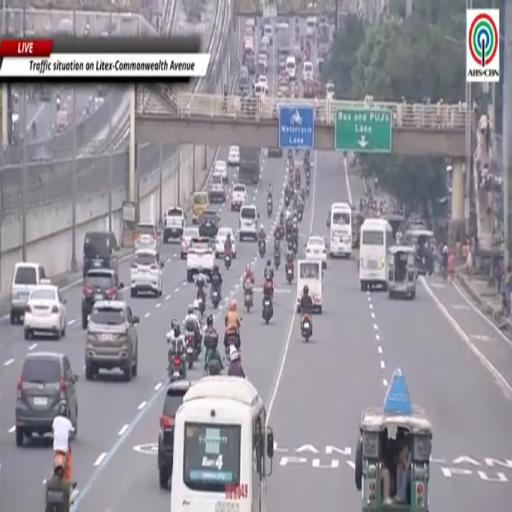bus: (171, 376, 273, 511), (359, 218, 394, 291), (329, 202, 352, 258)
car: (15, 351, 78, 446), (85, 300, 139, 380), (158, 380, 191, 488), (81, 269, 124, 329), (24, 280, 66, 339), (11, 262, 46, 324), (83, 232, 119, 277), (131, 250, 163, 297), (187, 237, 215, 282), (164, 207, 185, 243), (239, 205, 259, 242), (306, 235, 327, 268), (135, 222, 159, 250), (216, 228, 236, 259), (181, 227, 199, 259), (199, 210, 218, 238), (209, 173, 226, 204), (231, 184, 247, 211), (215, 160, 227, 182), (302, 61, 314, 82), (228, 146, 239, 166), (256, 75, 268, 93), (239, 75, 250, 94), (263, 24, 273, 44), (260, 37, 270, 55), (258, 53, 267, 72), (293, 45, 302, 62), (268, 148, 282, 157), (245, 19, 255, 31), (279, 54, 286, 71)
jeepney: (355, 370, 432, 511), (388, 246, 416, 299), (405, 230, 434, 275), (352, 212, 365, 248), (385, 214, 405, 236)
motorcycle: (43, 479, 61, 509), (186, 332, 196, 369), (225, 333, 239, 359), (169, 356, 182, 380), (301, 313, 312, 341), (262, 298, 272, 324), (206, 360, 221, 376), (197, 288, 205, 315), (245, 288, 253, 312), (212, 288, 220, 308), (286, 262, 293, 283), (224, 252, 232, 270), (290, 238, 297, 255), (259, 239, 265, 258), (274, 251, 280, 269), (267, 198, 272, 217), (305, 182, 310, 198), (295, 173, 300, 188), (297, 210, 303, 222), (285, 195, 290, 207), (280, 222, 284, 237), (306, 168, 311, 180)
truck: (239, 147, 260, 185), (276, 23, 291, 55)
